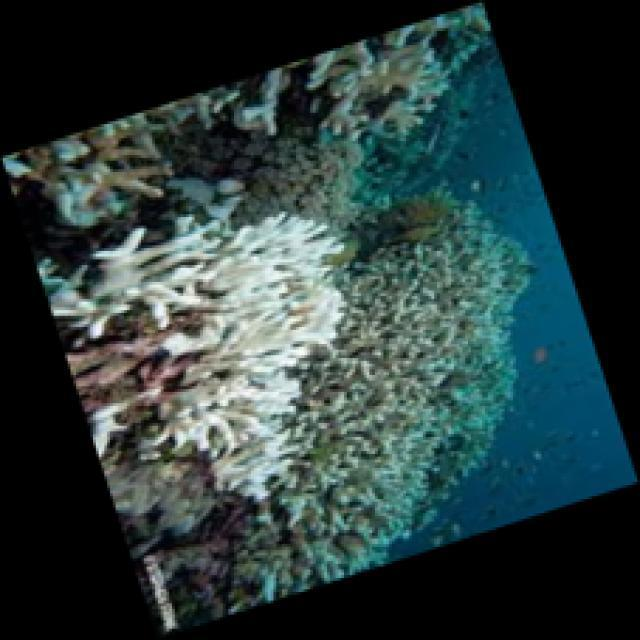Bleached: (38, 214, 347, 503)
